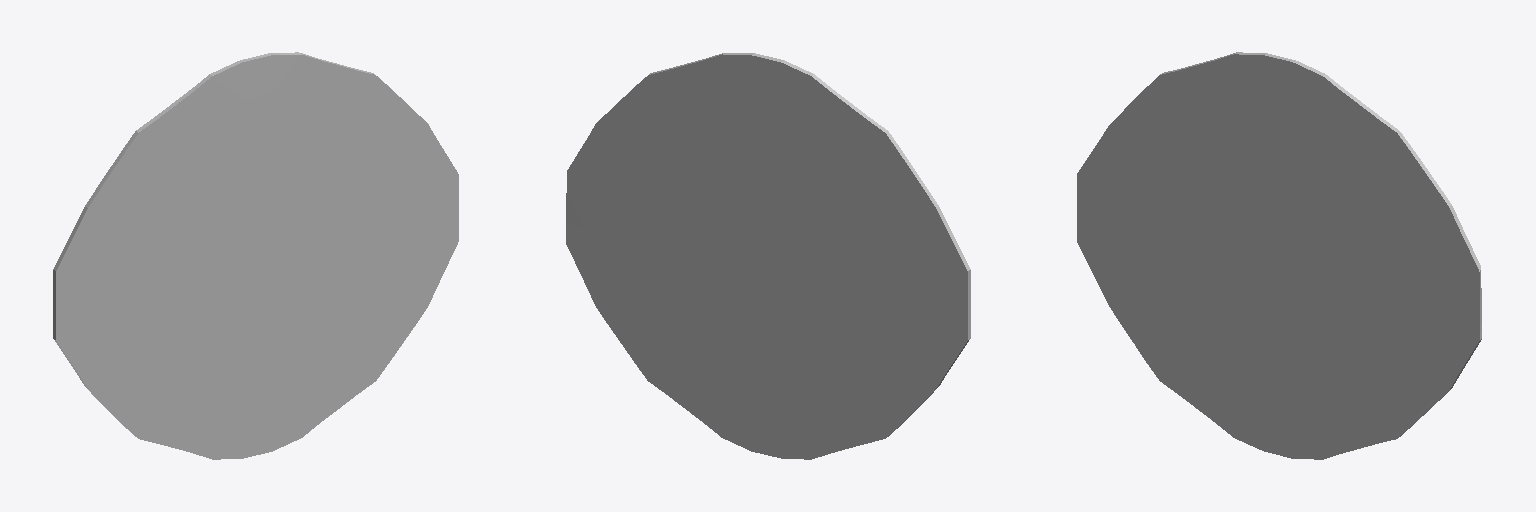
File: slice_0703.obj
3 views of the same model, side by side, from view 1: azimuth 30°, elevation 25°; view 2: azimuth 150°, elevation 25°; view 3: azimuth 330°, elevation 25° (orthographic).
Parts seen in each view (by area): view 1: slice.001; view 2: slice.001; view 3: slice.001.
Boxes of the visible parts, box(x1,y1,x2,y2) form: slice.001: box(53, 52, 458, 459); slice.001: box(566, 53, 970, 459); slice.001: box(1077, 52, 1481, 459).
Bounding box in the file's own units: 2.51 × 2.36 × 0.0312.